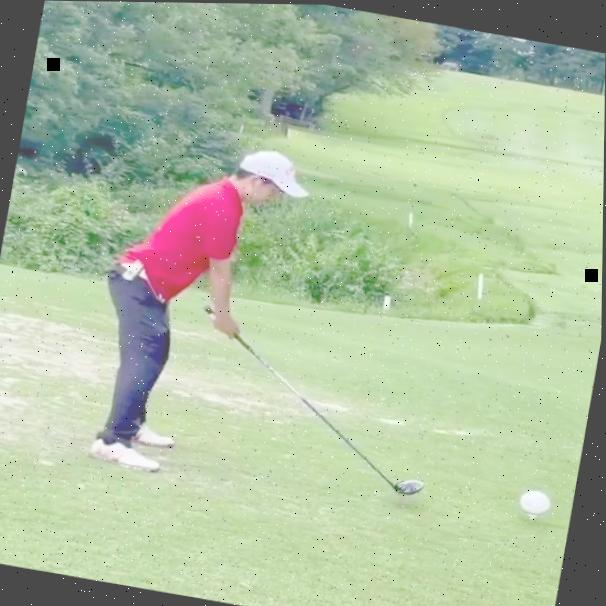ClubHead: (393, 475, 426, 495)
